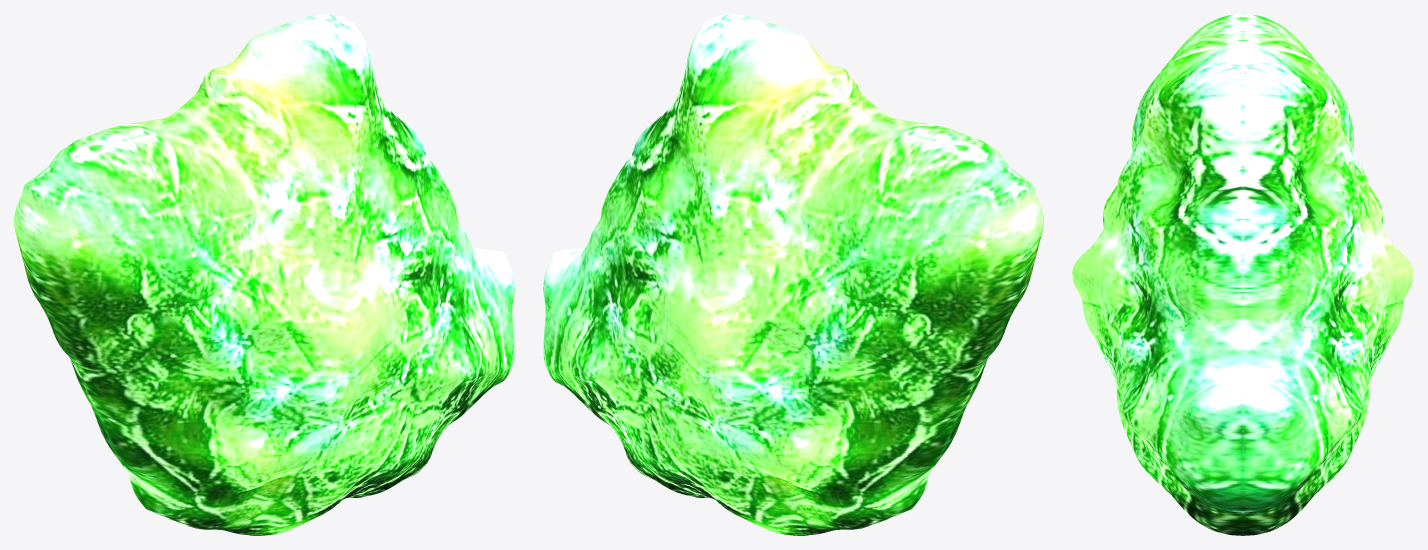
Rendered from time-stone.glb.
The picture shows the model from 3 angles, left to right: view 1: azimuth 30°, elevation 25°; view 2: azimuth 150°, elevation 25°; view 3: azimuth 270°, elevation 25°; orthographic projection. The views are drawn at different scales.
Parts seen in each view (by area): view 1: geometry_0; view 2: geometry_0; view 3: geometry_0.
Part boxes in pixels (<box>): geometry_0: <box>14,14,514,535</box>; geometry_0: <box>543,14,1043,535</box>; geometry_0: <box>1072,14,1413,535</box>.
Size of the model in its own units: 2.4 by 2.34 by 1.55.
Materials: 1 (1 with a texture image).
